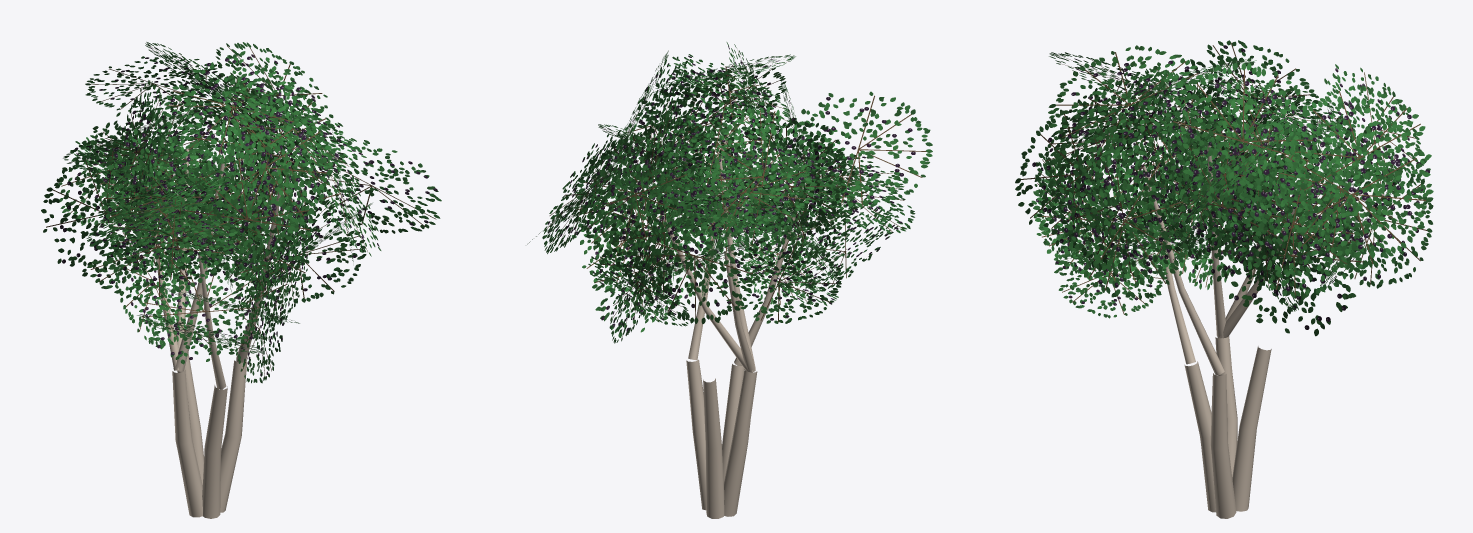
Rendered from plinia-cauliflora.glb.
3 views of the same model, side by side, from view 1: azimuth 30°, elevation 25°; view 2: azimuth 150°, elevation 25°; view 3: azimuth 270°, elevation 25° (orthographic). The views are drawn at different scales.
Visible parts, largest first — view 1: folhas, tronco; view 2: folhas, tronco; view 3: folhas, tronco.
Part boxes in pixels (x1,y1,x2,y2): folhas: [41, 42, 441, 383]; tronco: [150, 148, 280, 518]; folhas: [527, 42, 932, 343]; tronco: [661, 139, 797, 518]; folhas: [1015, 40, 1433, 336]; tronco: [1142, 145, 1309, 518].
Size of the model in its own units: 4.93 by 6 by 5.
2 materials, 1 textured.
